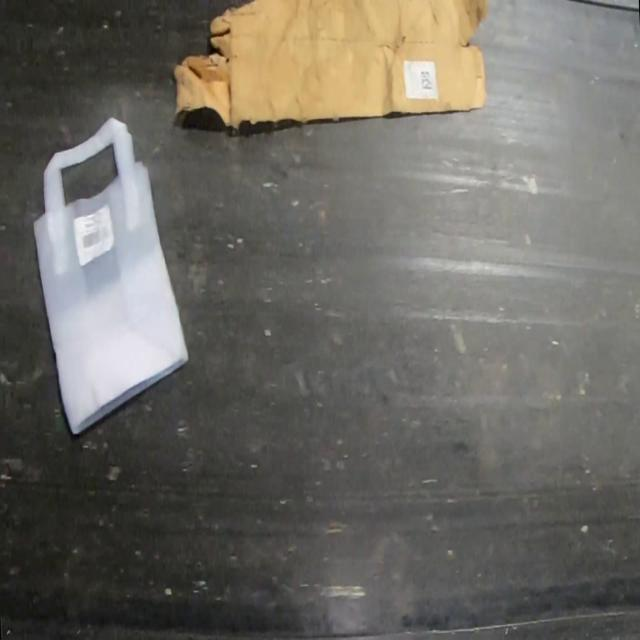cardboard: (174, 0, 488, 129)
soft_plastic: (32, 116, 190, 436)
